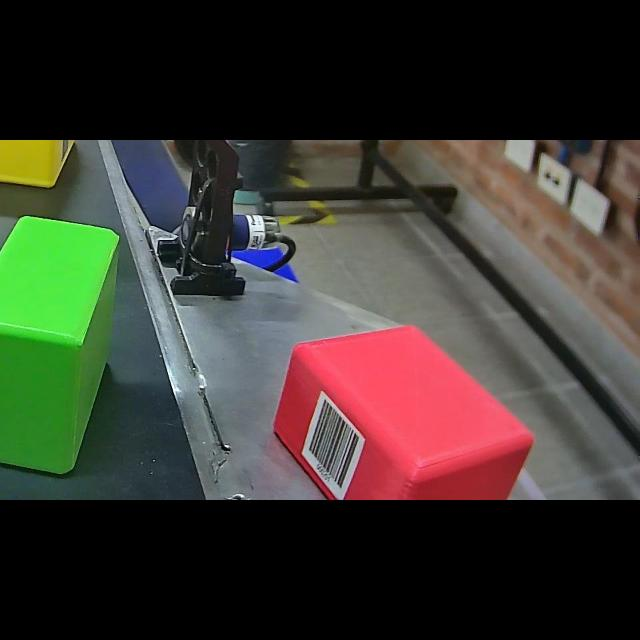greenBox: (0, 210, 130, 480)
redBox: (268, 318, 542, 500)
yellowBox: (0, 140, 86, 198)
